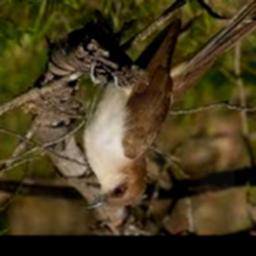Cuckoo: (79, 19, 184, 210)
